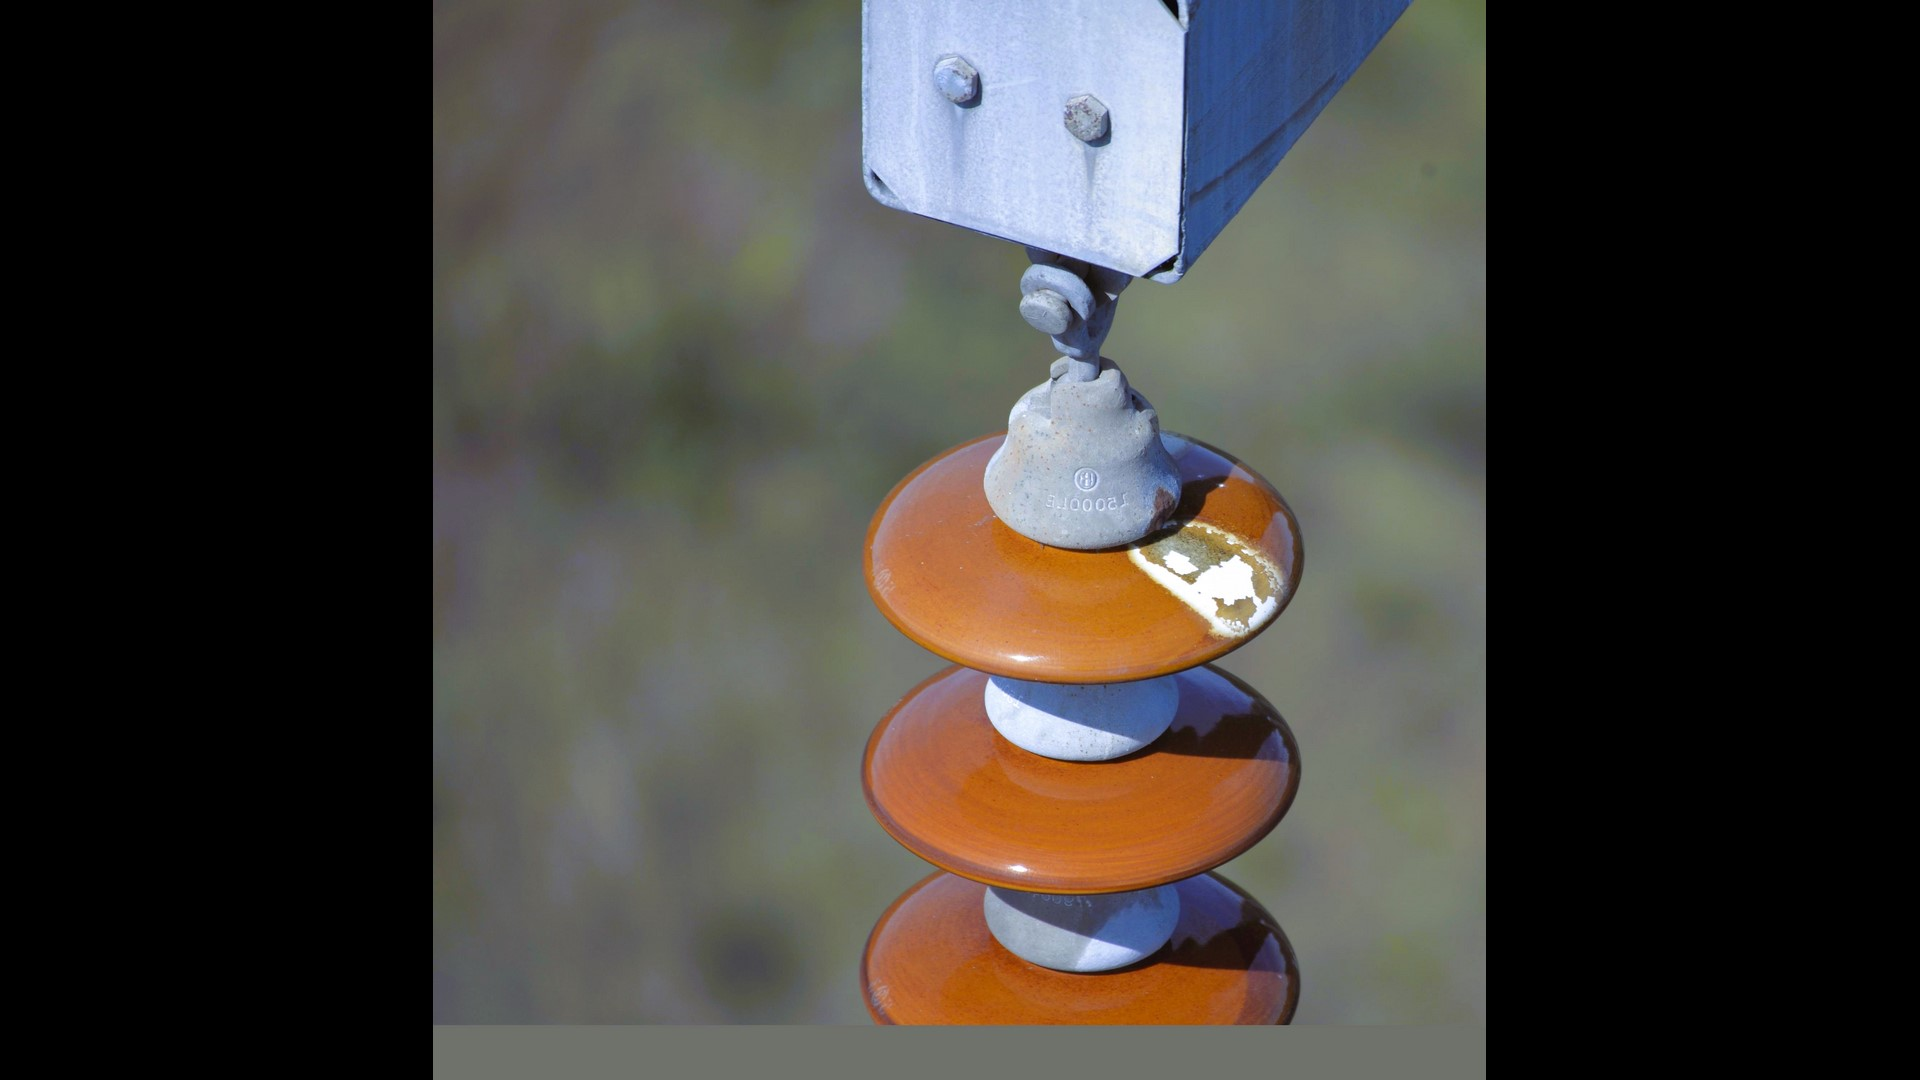Insulator flashover: (851, 406, 1315, 696)
